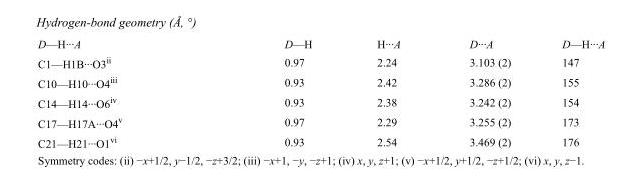table: (37, 37, 604, 149)
table column: (37, 37, 202, 149), (202, 37, 343, 149), (434, 37, 535, 149), (343, 37, 434, 149), (535, 37, 604, 149)
table row: (37, 71, 604, 91), (37, 91, 604, 111), (37, 111, 604, 131), (37, 52, 604, 71), (37, 131, 604, 149), (37, 37, 604, 52)
